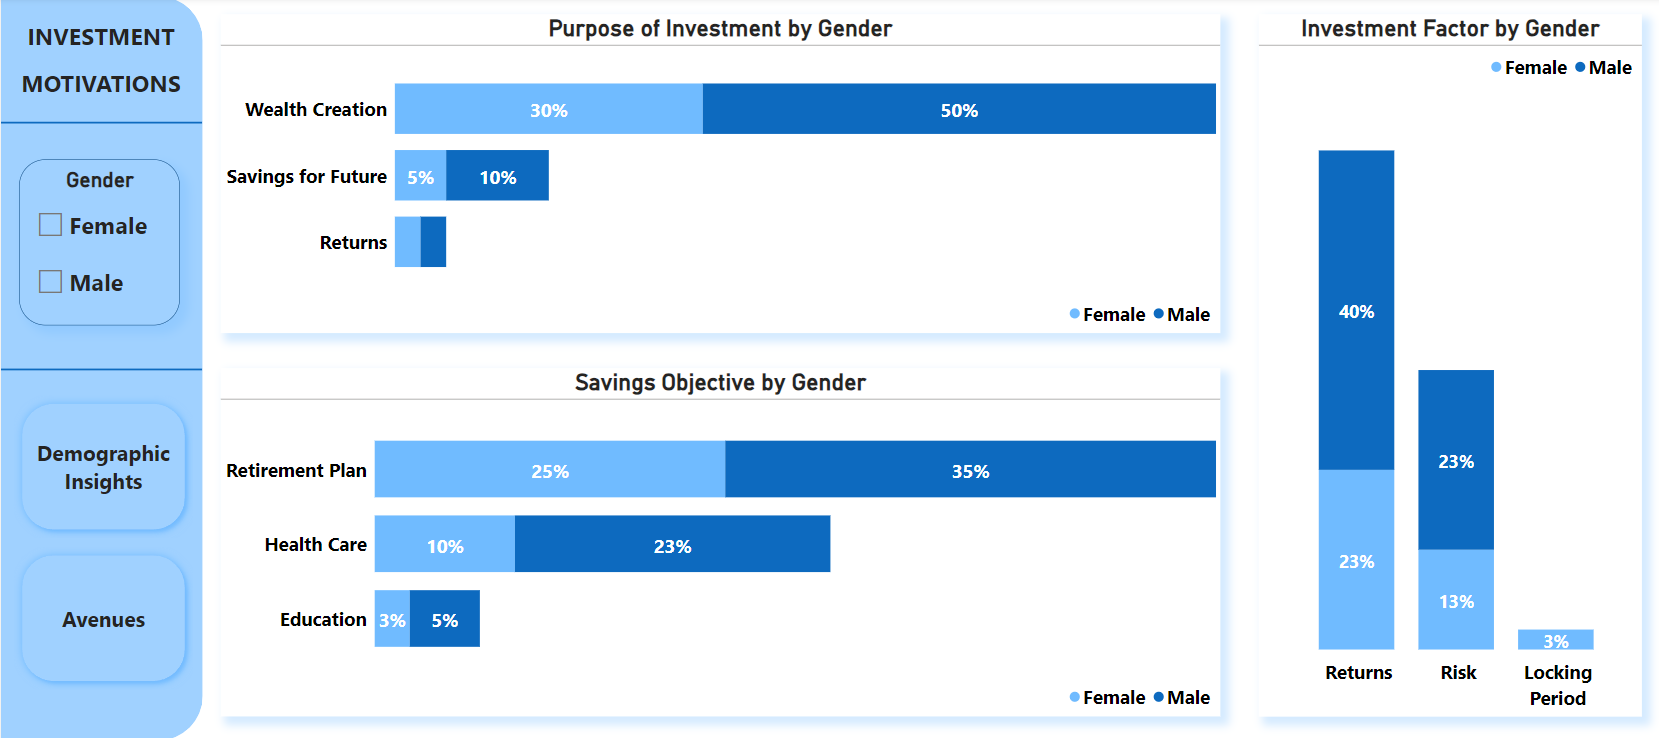

What the dashboard file says about the page in this screenshot:
{"tool":"powerbi","page":{"name":"Motivations","canvas":[1900,850],"ordinal":2},"visuals":[{"type":"group","id":"g1","title":"Group 2","box":[0,0,229.6,850.9],"z":0},{"type":"shape","box":[27,0,203.6,850.3],"z":0,"group":"g1"},{"type":"shape","box":[0,0,107.9,850.3],"z":1000,"group":"g1"},{"type":"textbox","box":[0,22.7,228.9,117.5],"z":1000},{"type":"barChart","title":"Savings Objective by Gender","fields":{"Category":["Data_set 2 - Copy.What are your savings objectives?"],"Y":["Sum(Data_set 2 - Copy.age)"],"Series":["Data_set 2 - Copy.gender"]},"box":[251,425.5,1141.7,397.9],"z":3000},{"type":"barChart","title":"Purpose of Investment by Gender","fields":{"Category":["Data_set 2 - Copy.Purpose"],"Y":["CountNonNull(Data_set 2 - Copy.age)"],"Series":["Data_set 2 - Copy.gender"]},"box":[251,21.4,1141.7,364.2],"z":4000},{"type":"columnChart","title":"Investment Factor by Gender","fields":{"Category":["Data_set 2 - Copy.Factor"],"Y":["Sum(Data_set 2 - Copy.age)"],"Series":["Data_set 2 - Copy.gender"]},"box":[1435.5,21.4,437.7,801.9],"z":5000},{"type":"pageNavigator","box":[15.3,456.1,205.1,336.7],"z":5001},{"type":"shape","box":[0,394.8,229.6,61.2],"z":5002},{"type":"shape","box":[0,113.3,229.6,61.2],"z":5003},{"type":"slicer","title":"Gender","fields":{"Values":["Data_set 2 - Copy.gender"]},"box":[21.4,186.7,183.6,189.7],"z":5004}]}

Visuals, with their boxes in screenshot pixels (x1, y1, x2, y2), scaled from the page's 1900x850 canvas onto the 1659x738 screenshot:
"Group 2" group: {"x1": 0, "y1": 0, "x2": 200, "y2": 737}
shape: {"x1": 24, "y1": 0, "x2": 201, "y2": 737}
shape: {"x1": 0, "y1": 0, "x2": 94, "y2": 737}
textbox: {"x1": 0, "y1": 20, "x2": 200, "y2": 122}
"Savings Objective by Gender" barChart: {"x1": 219, "y1": 369, "x2": 1216, "y2": 715}
"Purpose of Investment by Gender" barChart: {"x1": 219, "y1": 19, "x2": 1216, "y2": 335}
"Investment Factor by Gender" columnChart: {"x1": 1253, "y1": 19, "x2": 1636, "y2": 715}
pageNavigator: {"x1": 13, "y1": 396, "x2": 192, "y2": 688}
shape: {"x1": 0, "y1": 343, "x2": 200, "y2": 396}
shape: {"x1": 0, "y1": 98, "x2": 200, "y2": 152}
"Gender" slicer: {"x1": 19, "y1": 162, "x2": 179, "y2": 327}
